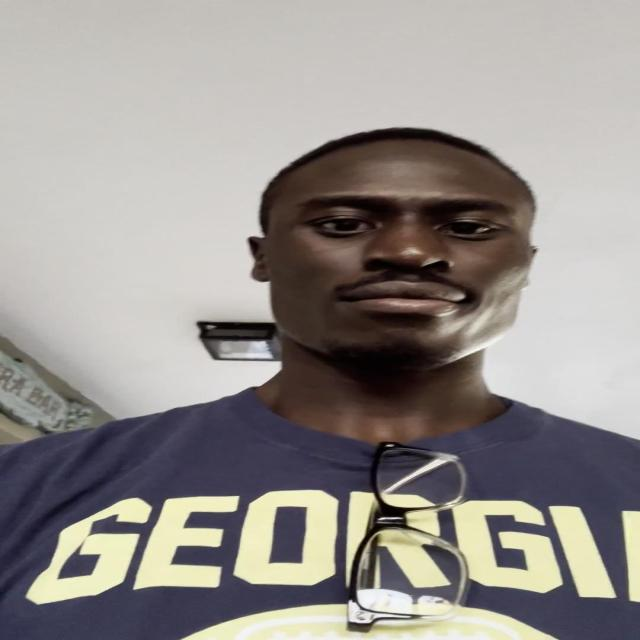NO-Mask: (244, 133, 549, 385)
